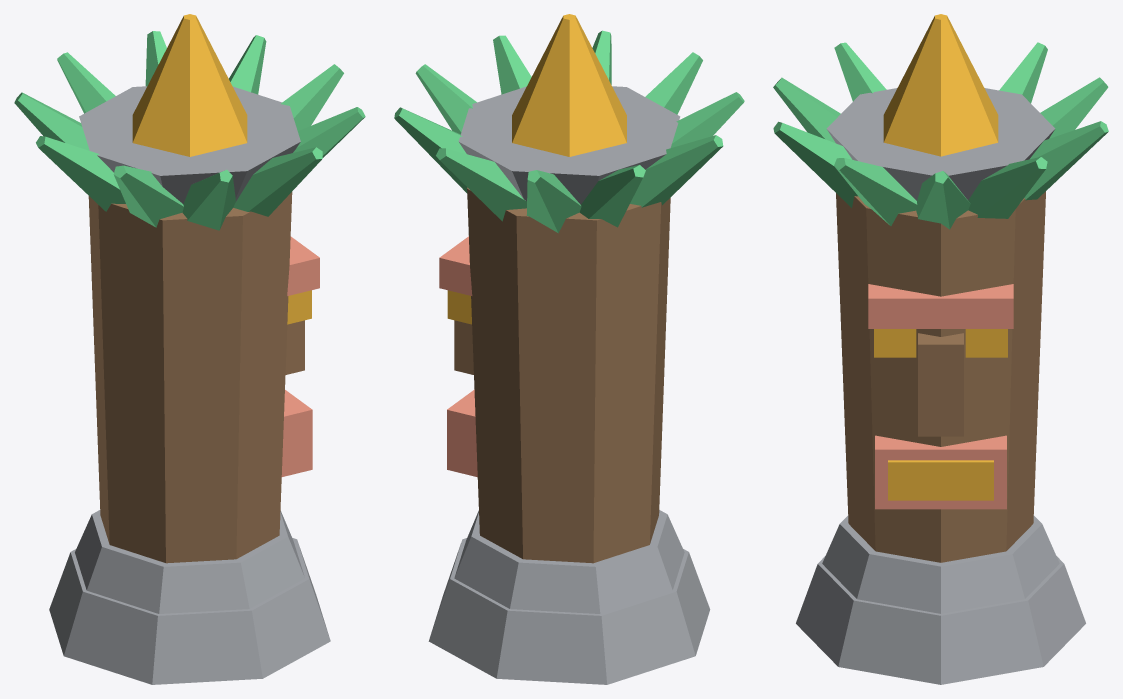
The model's file is SM_Trop_TikiTotem_Statue.fbx.
3 renders of one model, left to right at view 1: azimuth 30°, elevation 25°; view 2: azimuth 150°, elevation 25°; view 3: azimuth 270°, elevation 25°, orthographic.
Visible parts, largest first — view 1: SM_Trop_TikiTotem_Statue; view 2: SM_Trop_TikiTotem_Statue; view 3: SM_Trop_TikiTotem_Statue.
Boxes of the visible parts, left/top/right/bottom form: SM_Trop_TikiTotem_Statue: left=14, top=14, right=365, bottom=684; SM_Trop_TikiTotem_Statue: left=394, top=14, right=744, bottom=684; SM_Trop_TikiTotem_Statue: left=773, top=14, right=1108, bottom=684.
Bounding box in the file's own units: 399 × 381 × 760.
